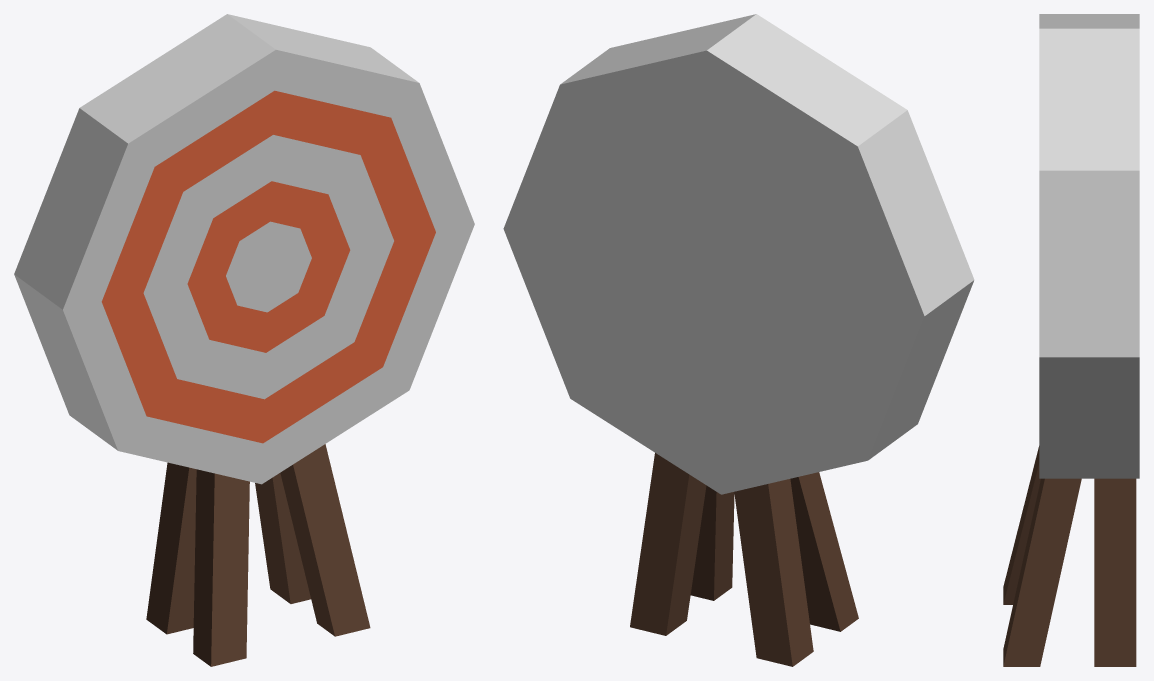
The model's file is Target.glb.
3 views of the same model, side by side, from view 1: azimuth 30°, elevation 25°; view 2: azimuth 150°, elevation 25°; view 3: azimuth 270°, elevation 25° (orthographic). The views are drawn at different scales.
Visible parts, largest first — view 1: Target; view 2: Target; view 3: Target.
Part boxes in pixels (<box>): Target: <box>14,14,474,666</box>; Target: <box>503,14,974,666</box>; Target: <box>1003,14,1139,666</box>.
Size of the model in its own units: 0.5264 by 0.7132 by 0.1469.
